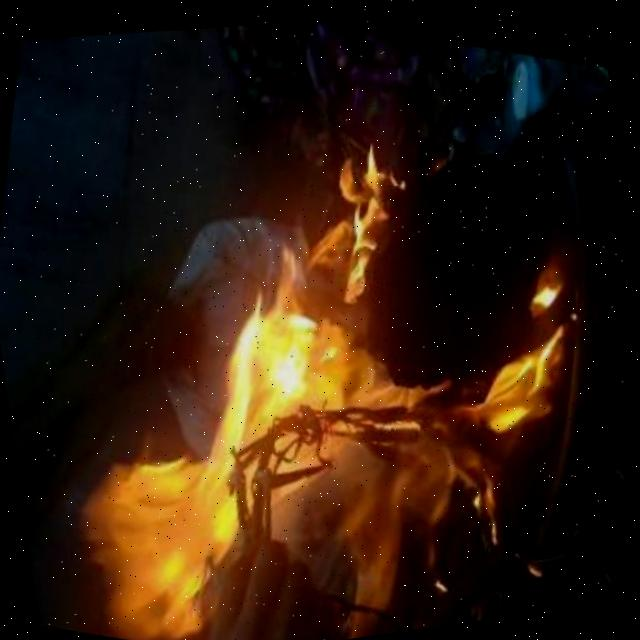fire: (61, 277, 492, 640), (451, 280, 584, 432), (300, 140, 420, 304)
